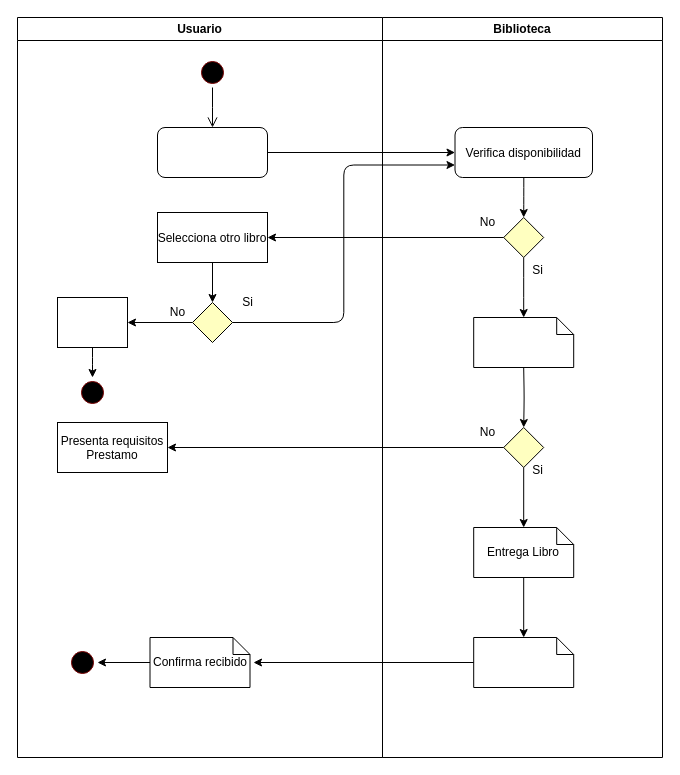
This 680x775 diagram has some shape labels left out. The centre of each missing label's shape, as x and y in pixels:
Cancelar Prestamo: (92,322)
Envia notificación Préstamo: (523,662)
Solicita Libro: (212,152)
Valida Requisitos prestamo: (523,342)
